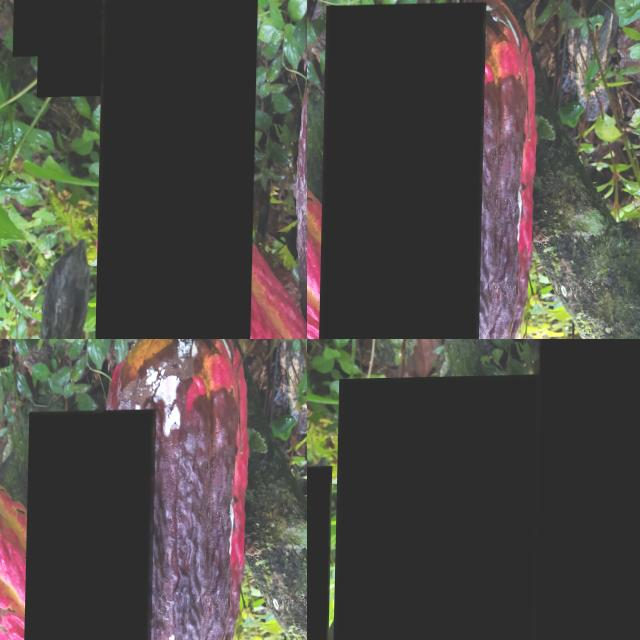Fitoftora: (307, 466, 333, 640)
Monilia: (334, 375, 592, 640), (96, 0, 258, 339), (535, 339, 640, 640)
Sana: (318, 4, 486, 339), (23, 410, 156, 640), (37, 0, 103, 97), (12, 0, 56, 57)
